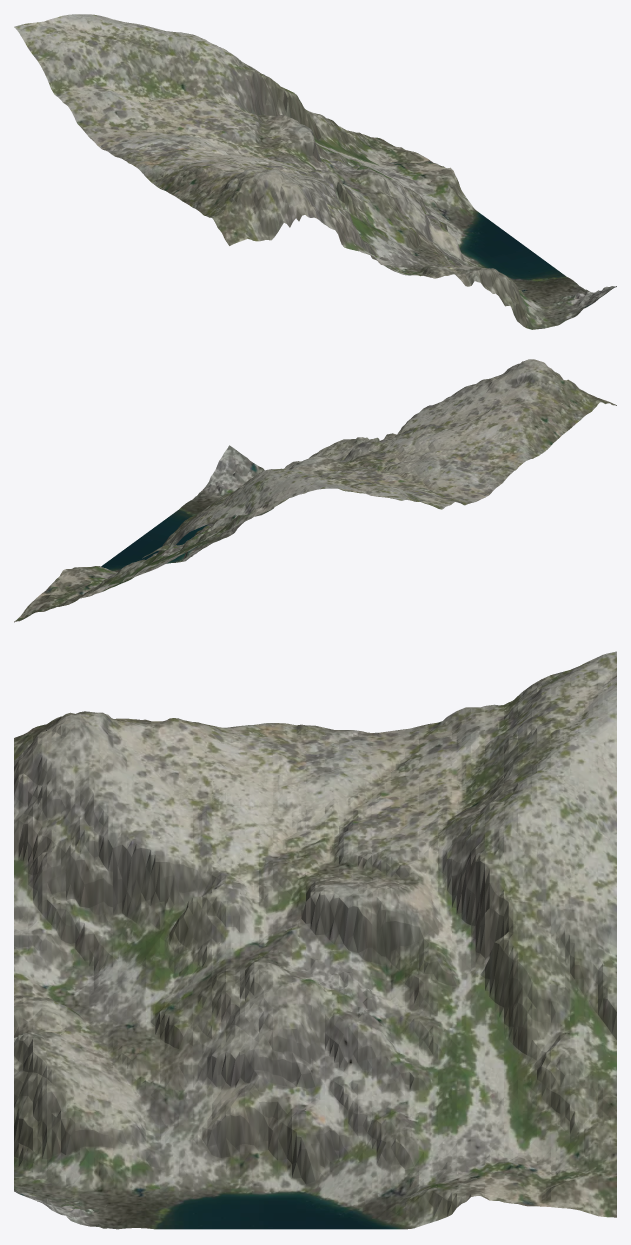
3 views of the same model, one above another, from view 1: azimuth 30°, elevation 25°; view 2: azimuth 150°, elevation 25°; view 3: azimuth 270°, elevation 25° (orthographic). The views are drawn at different scales.
Bounding box in the file's own units: 500 × 277 × 481.
1 material, 1 textured.
